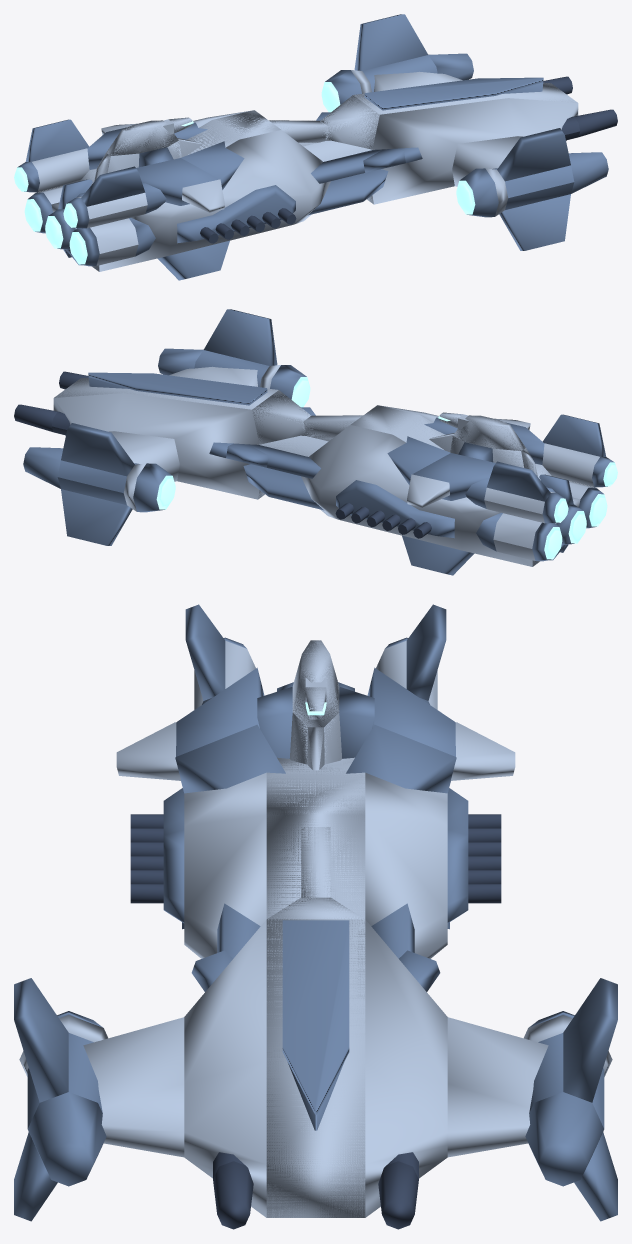
The model's file is broadside-ship_03.glb.
The picture shows the model from 3 angles, top to bottom: view 1: azimuth 30°, elevation 25°; view 2: azimuth 150°, elevation 25°; view 3: azimuth 270°, elevation 25°; orthographic projection. The views are drawn at different scales.
Parts seen in each view (by area): view 1: hull, hullD, engine, dark; view 2: hull, hullD, engine, dark; view 3: hull, hullD, dark.
Boxes of the visible parts, <box> form: hull: <box>32,70,578,271</box>; hullD: <box>17,14,608,280</box>; engine: <box>14,82,475,264</box>; dark: <box>200,76,617,243</box>; hull: <box>53,365,599,566</box>; hullD: <box>23,309,614,575</box>; engine: <box>156,377,617,559</box>; dark: <box>14,371,431,538</box>; hull: <box>19,640,612,1217</box>; hullD: <box>14,604,617,1221</box>; dark: <box>130,814,501,1229</box>.
Size of the model in its own units: 12 by 2.96 by 6.24.
